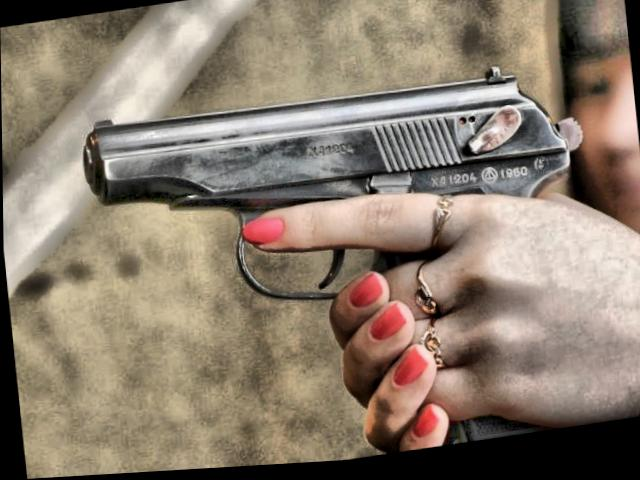pistol: (72, 49, 613, 477)
